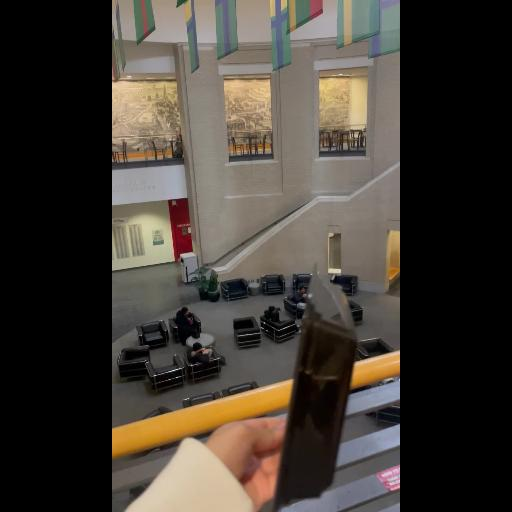rigid_plastic_container: (272, 261, 356, 509)
